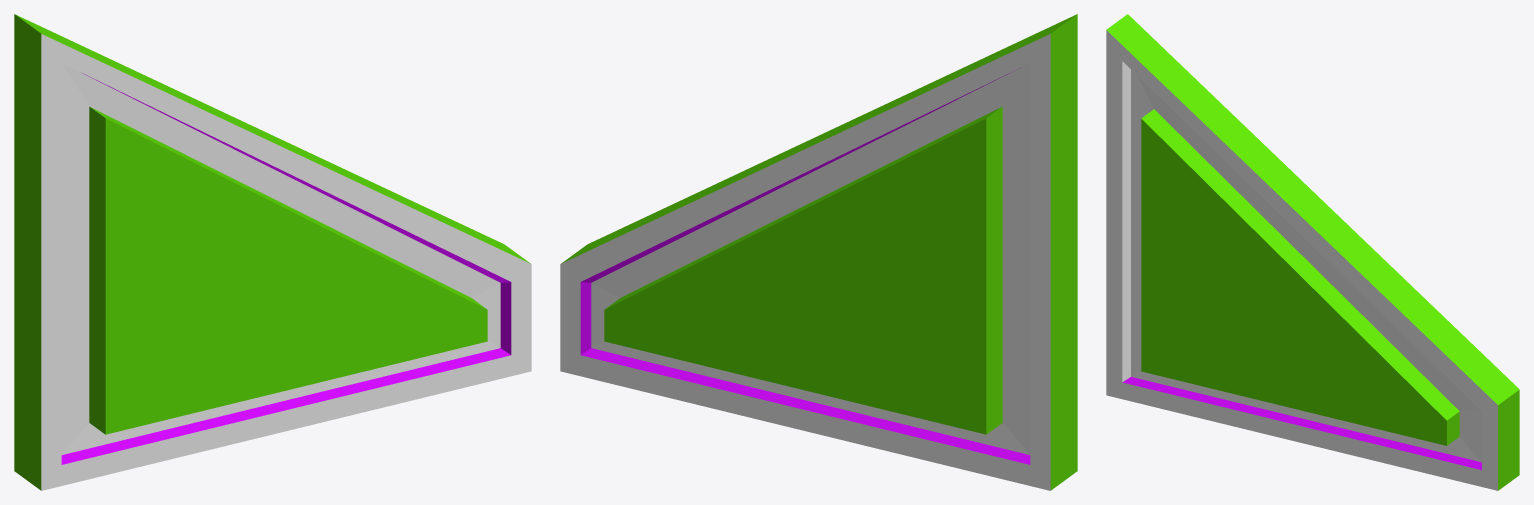
The model's file is üstk_lv6.fbx.
3 renders of one model, left to right at view 1: azimuth 30°, elevation 25°; view 2: azimuth 150°, elevation 25°; view 3: azimuth 330°, elevation 25°, orthographic. The views are drawn at different scales.
Visible parts, largest first — view 1: üstk_lv6; view 2: üstk_lv6; view 3: üstk_lv6.
Boxes of the visible parts, x1,y1,x2,y2 form: üstk_lv6: (14,14,531,490); üstk_lv6: (560,14,1077,490); üstk_lv6: (1106,14,1519,490).
Bounding box in the file's own units: 82.82 × 73.82 × 13.87.
